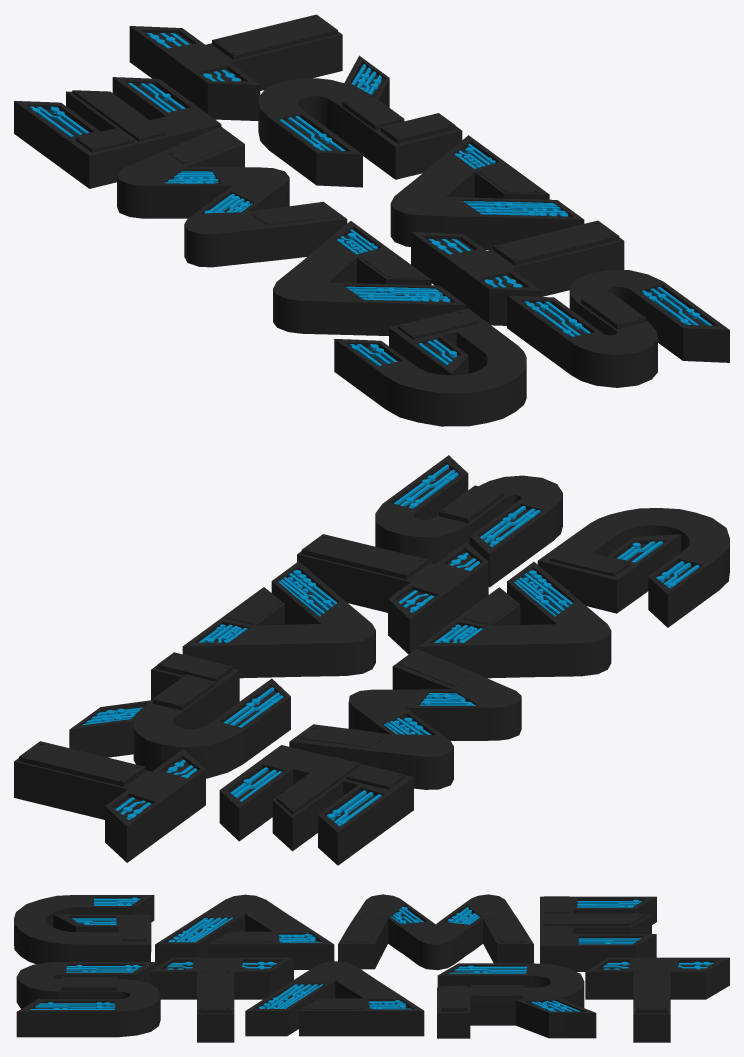
Rendered from GameStart_UI.fbx.
3 views of the same model, one above another, from view 1: azimuth 30°, elevation 25°; view 2: azimuth 150°, elevation 25°; view 3: azimuth 270°, elevation 25° (orthographic). The views are drawn at different scales.
Visible parts, largest first — view 1: GameStart_UI; view 2: GameStart_UI; view 3: GameStart_UI.
Part boxes in pixels (x1,y1,x2,y2): GameStart_UI: (14, 14, 729, 426); GameStart_UI: (14, 455, 729, 865); GameStart_UI: (14, 894, 729, 1042).
Size of the model in its own units: 10.44 by 1.3 by 26.33.
